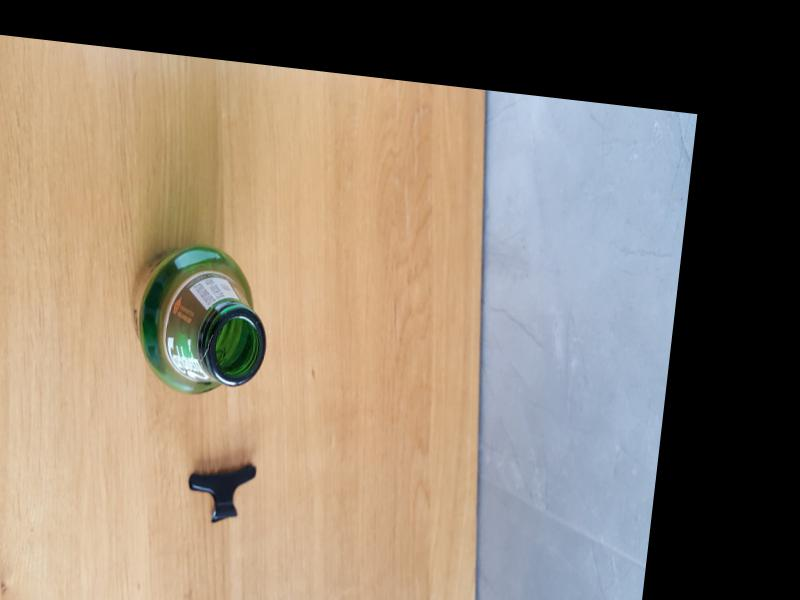Beer: (119, 238, 275, 405)
